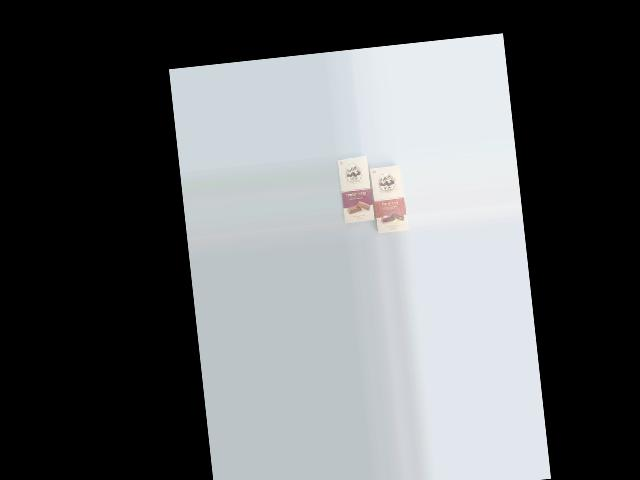chocolate: (363, 161, 410, 235)
